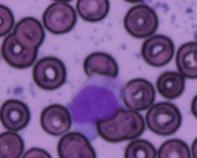L: (68, 75, 128, 127)
